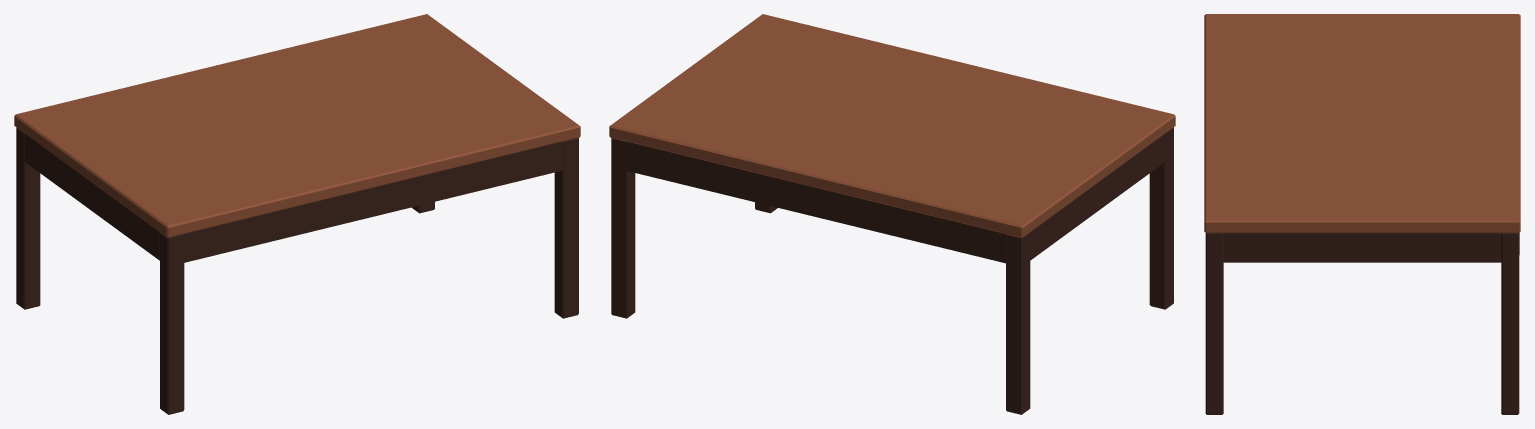
File: CoffeeTable1.fbx
The picture shows the model from 3 angles, left to right: view 1: azimuth 30°, elevation 25°; view 2: azimuth 150°, elevation 25°; view 3: azimuth 270°, elevation 25°; orthographic projection. The views are drawn at different scales.
Visible parts, largest first — view 1: Cube.003; view 2: Cube.003; view 3: Cube.003.
Part boxes in pixels (bbox=[...]): Cube.003: bbox=[14, 14, 580, 414]; Cube.003: bbox=[609, 14, 1175, 414]; Cube.003: bbox=[1204, 14, 1520, 414].
Bounding box in the file's own units: 102 × 44.44 × 65.28.
